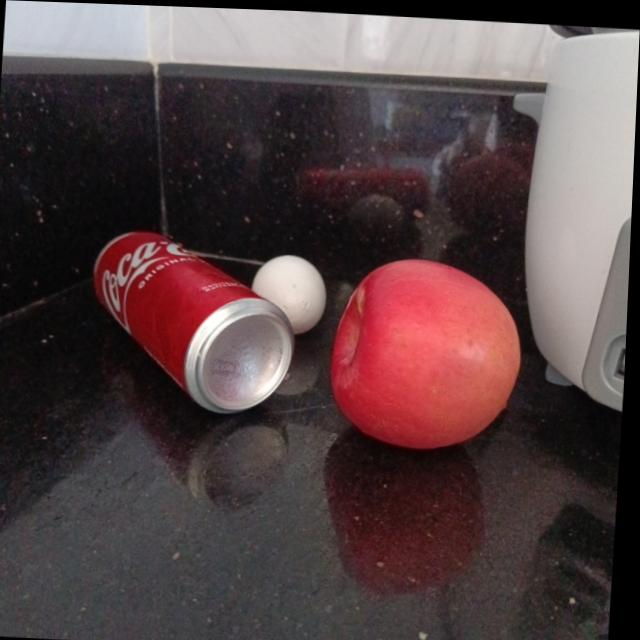apple: (330, 251, 529, 446)
coke: (85, 227, 298, 414)
egg: (253, 250, 333, 332)
